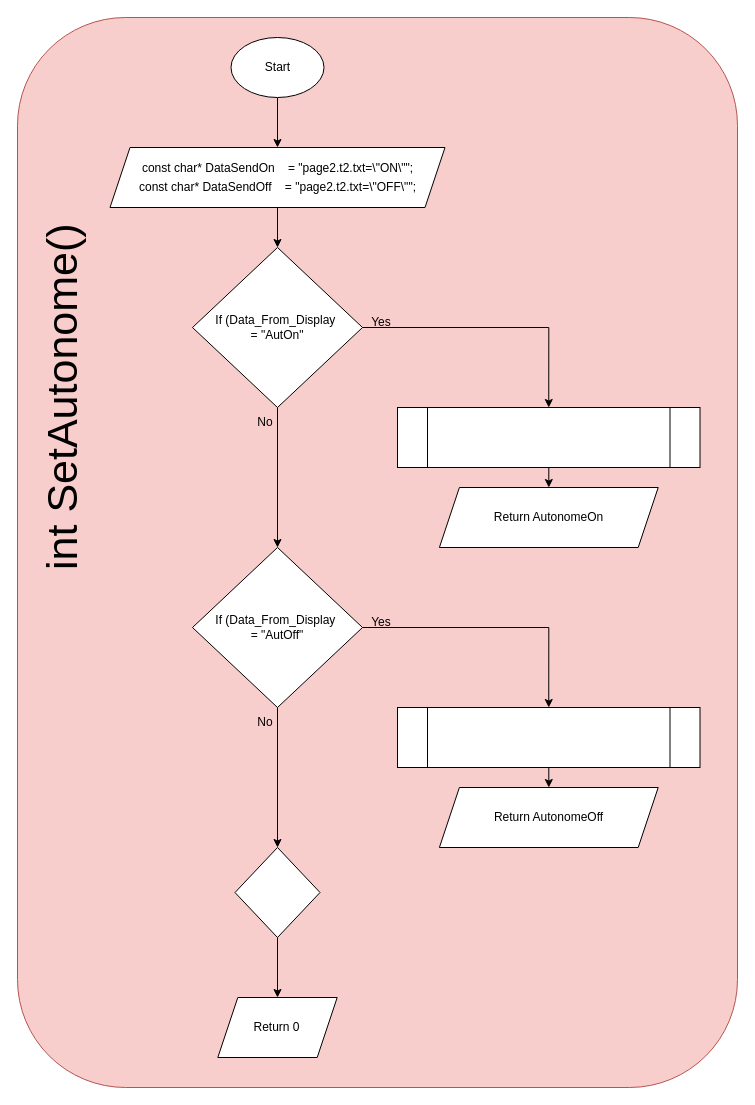
This 755x1105 diagram has some shape labels left out. The shapes that lost their labels are listed below. From the top down, each one's box as (x1, y1, x2, y2) in pixels, then its label:
(396, 406, 700, 468): PrintToDisplay(DataSendOn ) (Serial Display/Print_To_Dispaly)
(396, 706, 700, 768): PrintToDisplay(DataSendOff ) (Serial Display/Print_To_Dispaly)
(234, 846, 320, 938): Else
